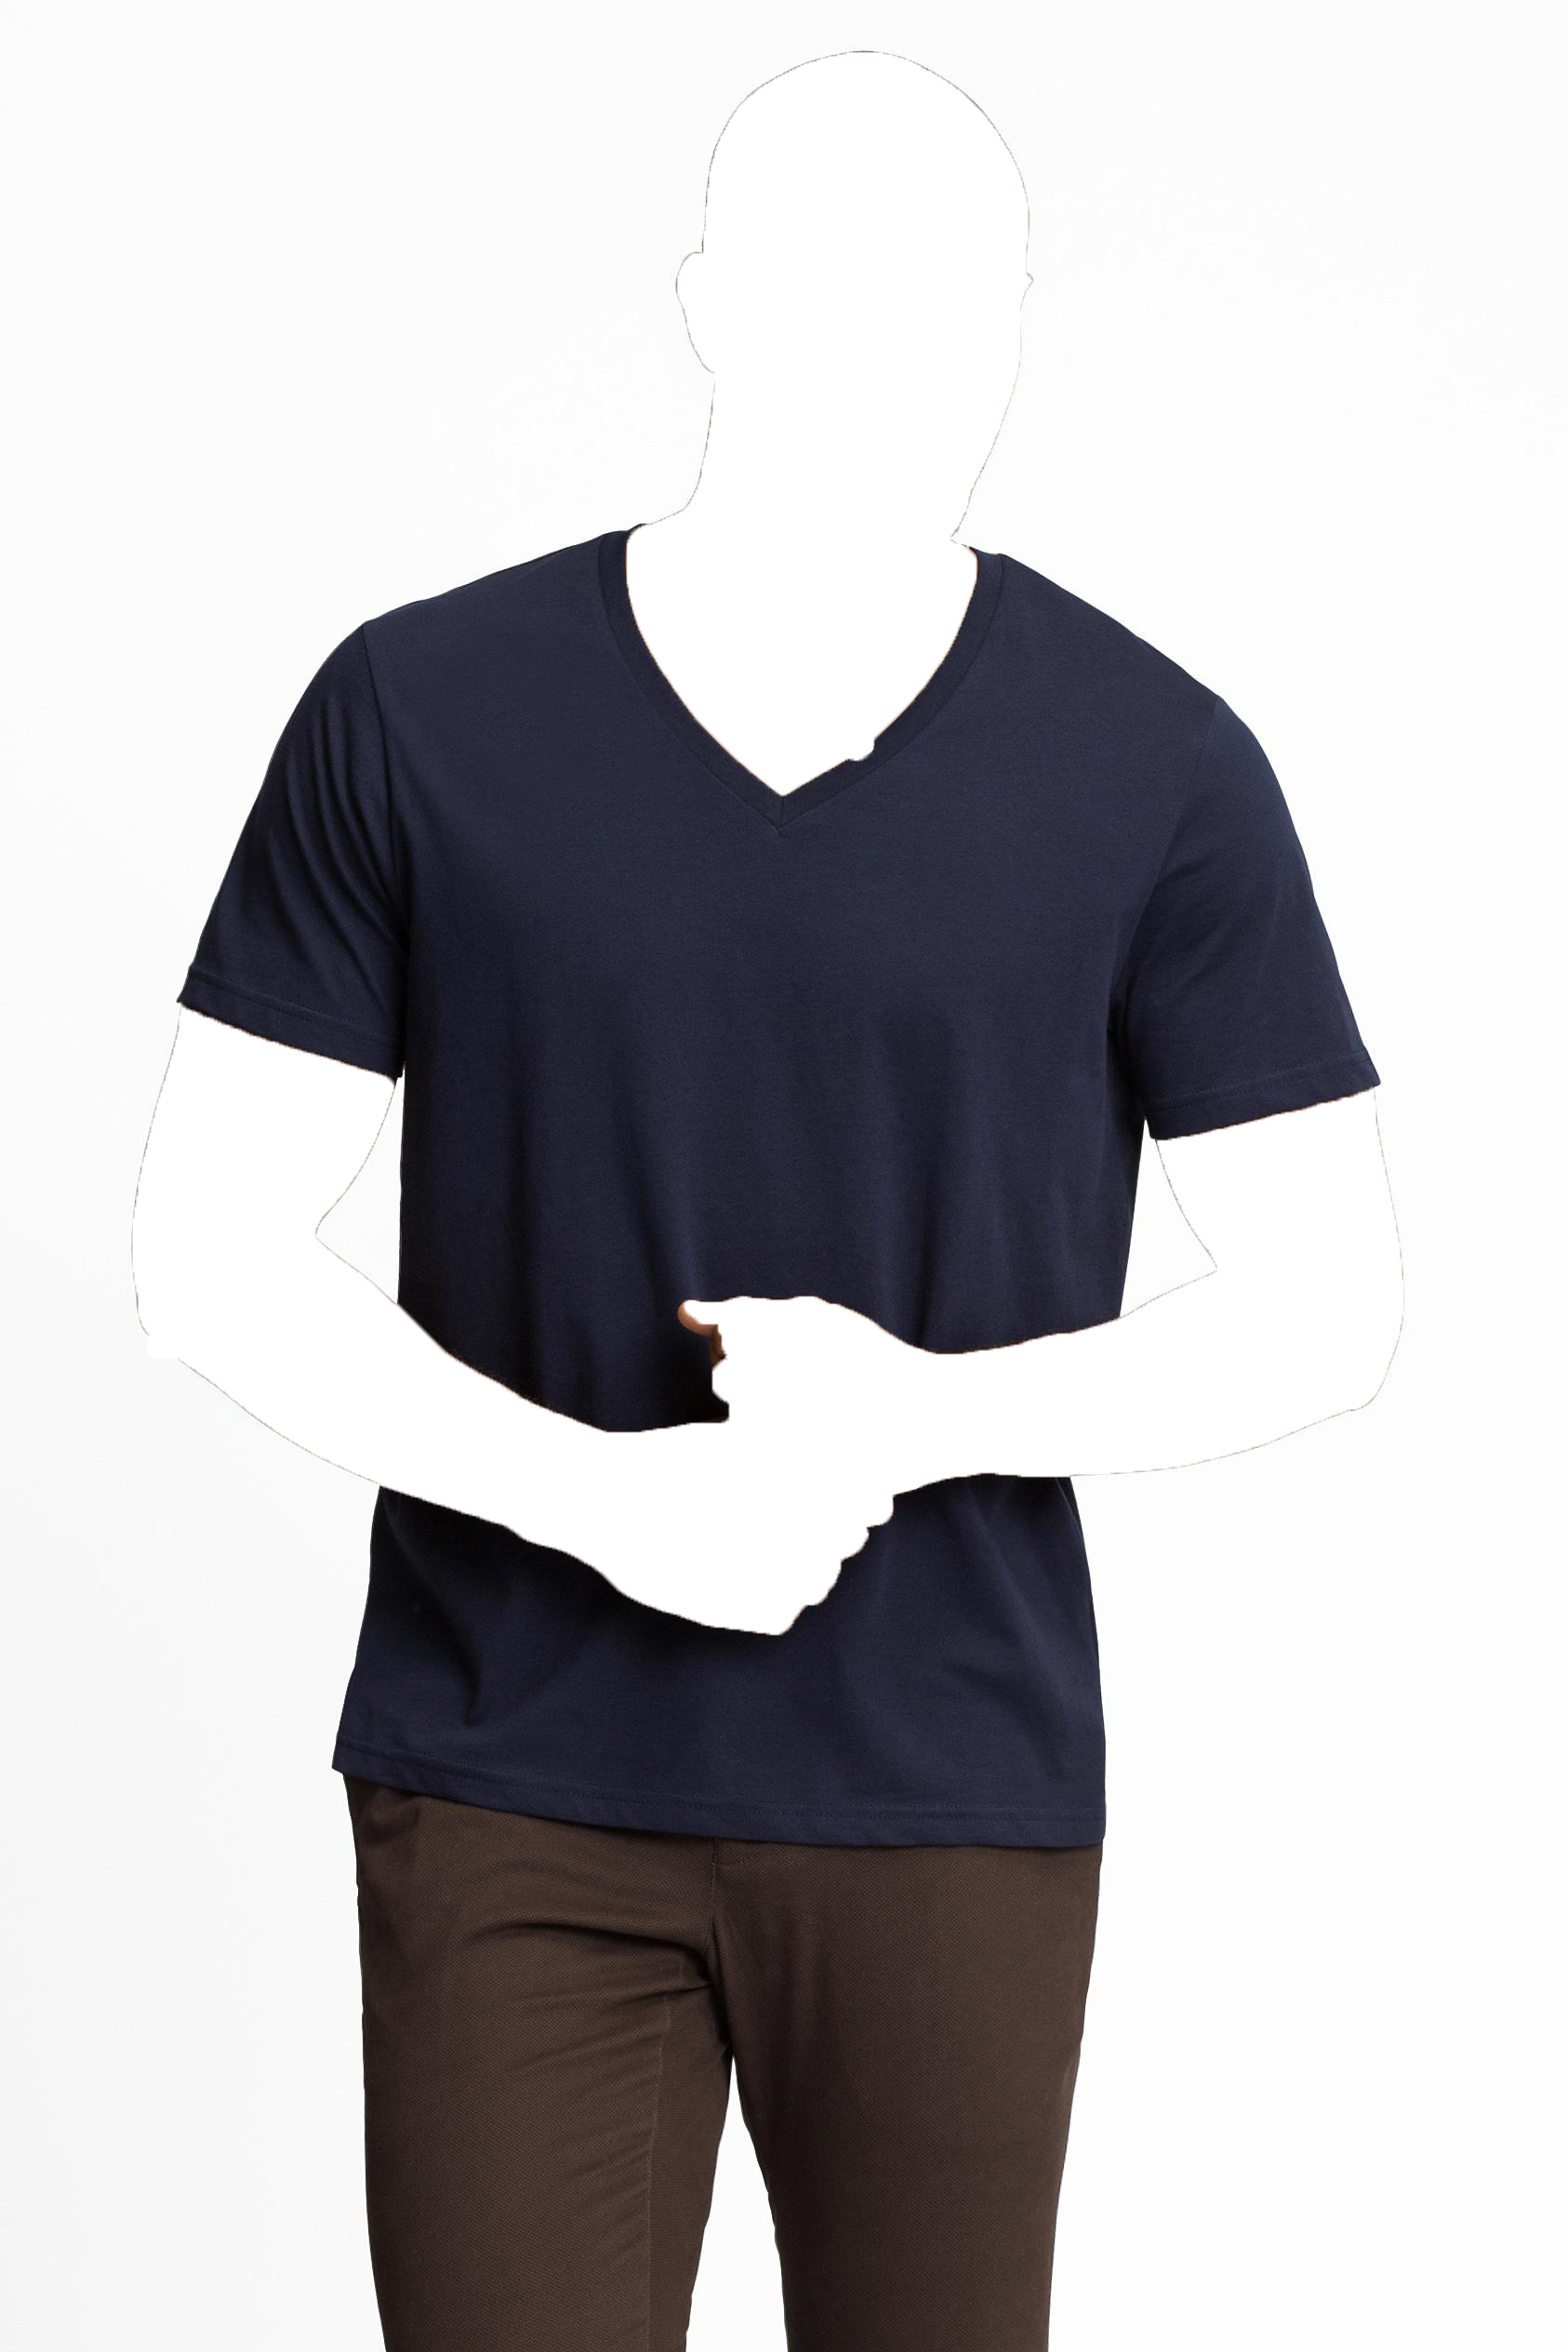teeshirt: (159, 522, 1389, 1844)
